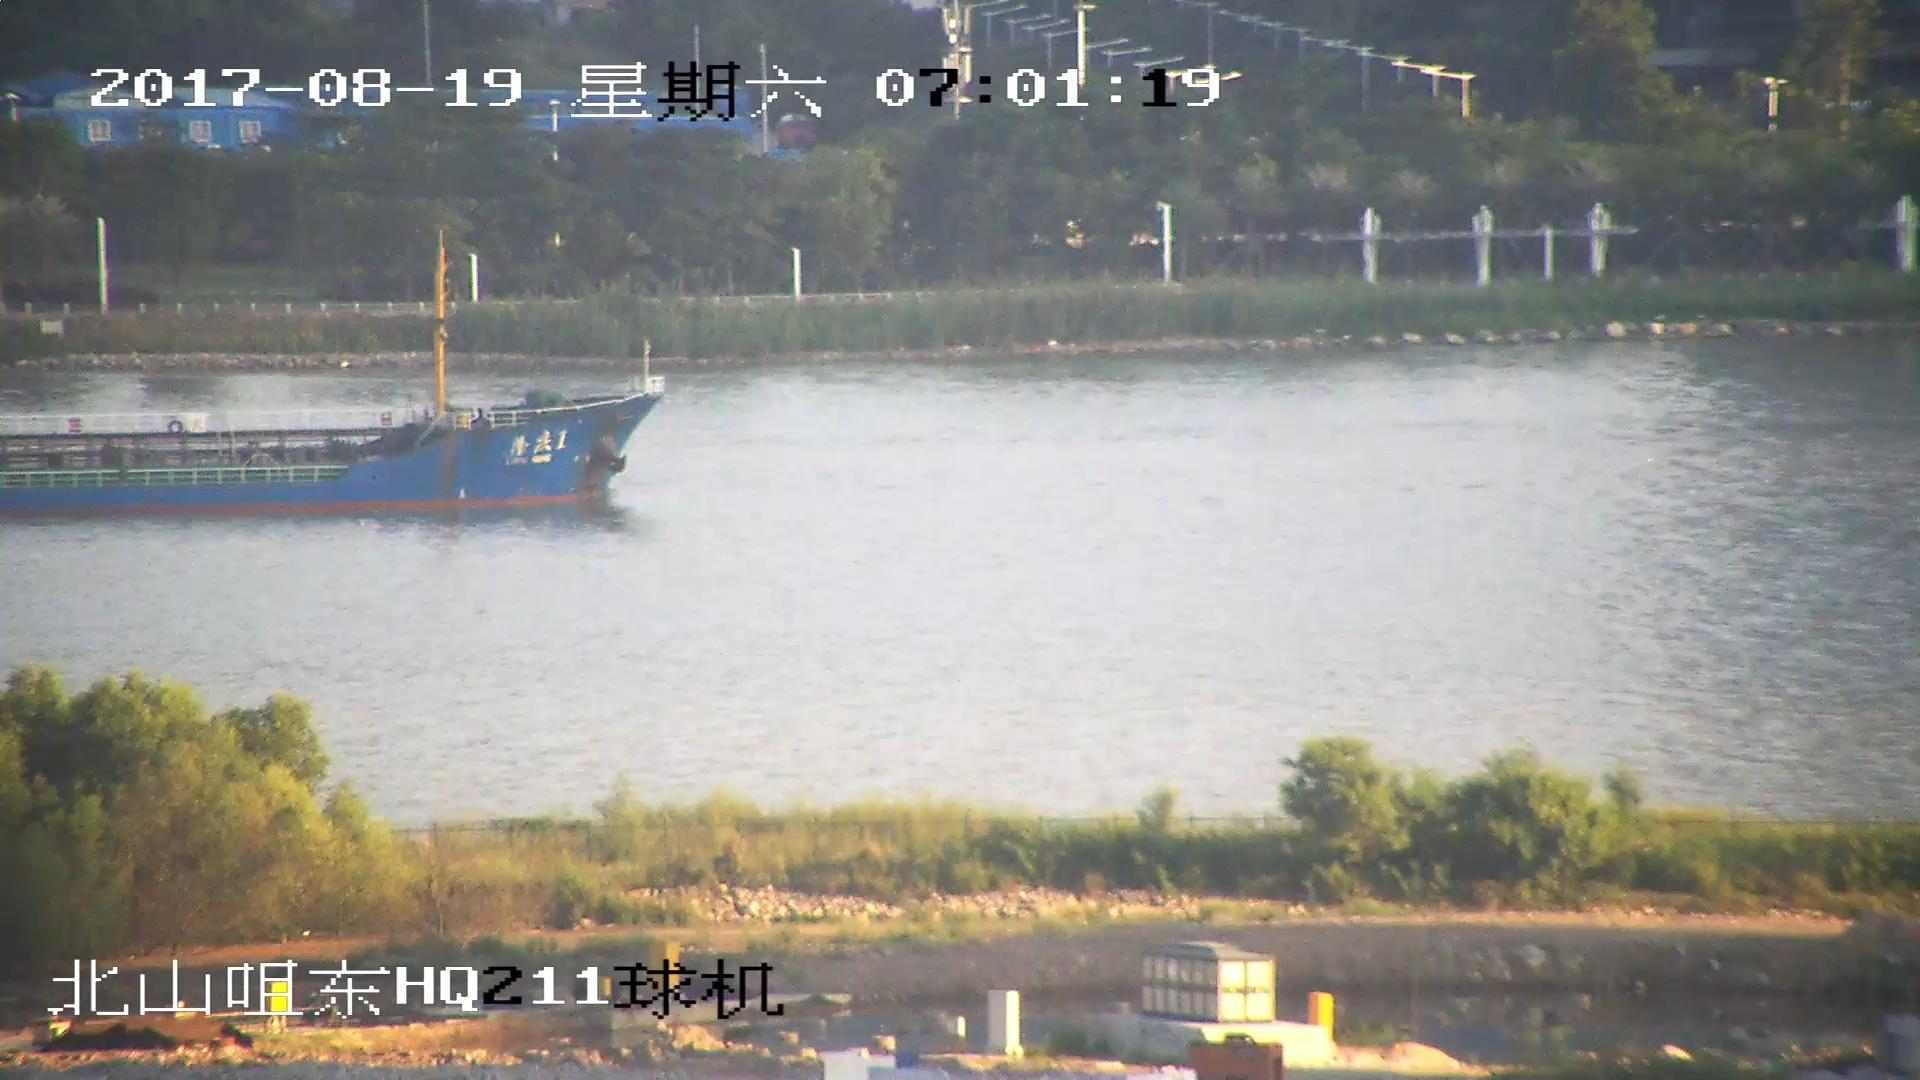Ship: (3, 256, 655, 512)
